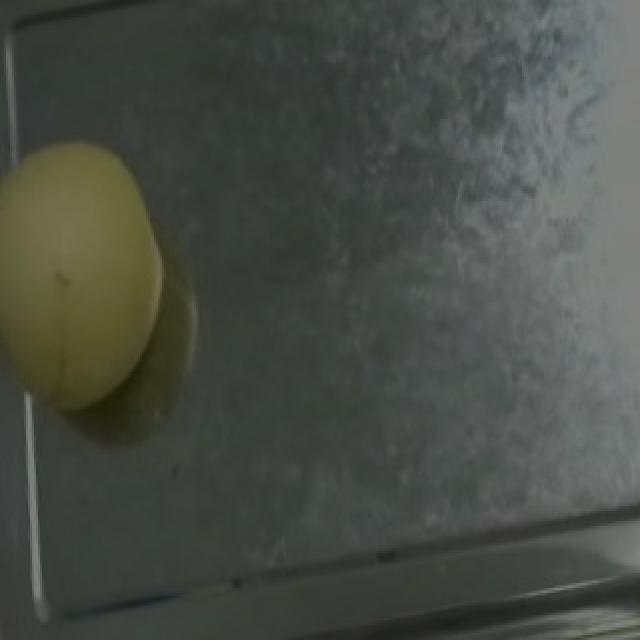Fruit: (0, 114, 182, 427)
